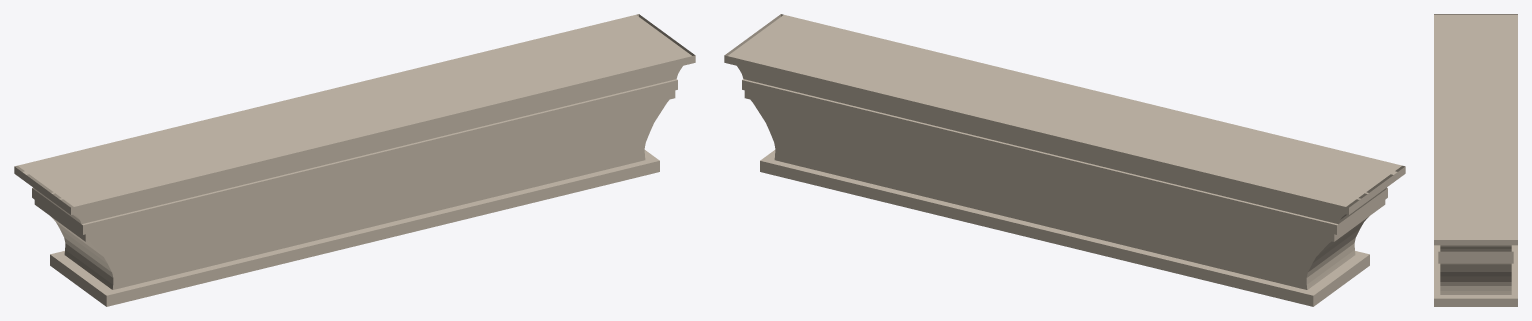
The model's file is plataforma  1.fbx.
3 views of the same model, side by side, from view 1: azimuth 30°, elevation 25°; view 2: azimuth 150°, elevation 25°; view 3: azimuth 270°, elevation 25° (orthographic). The views are drawn at different scales.
Parts seen in each view (by area): view 1: Cube.003; view 2: Cube.003; view 3: Cube.003.
Part boxes in pixels (x1,y1,x2,y2): Cube.003: (14, 14, 695, 306); Cube.003: (724, 14, 1405, 306); Cube.003: (1434, 14, 1517, 306).
Size of the model in its own units: 509 by 83.97 by 79.73.
